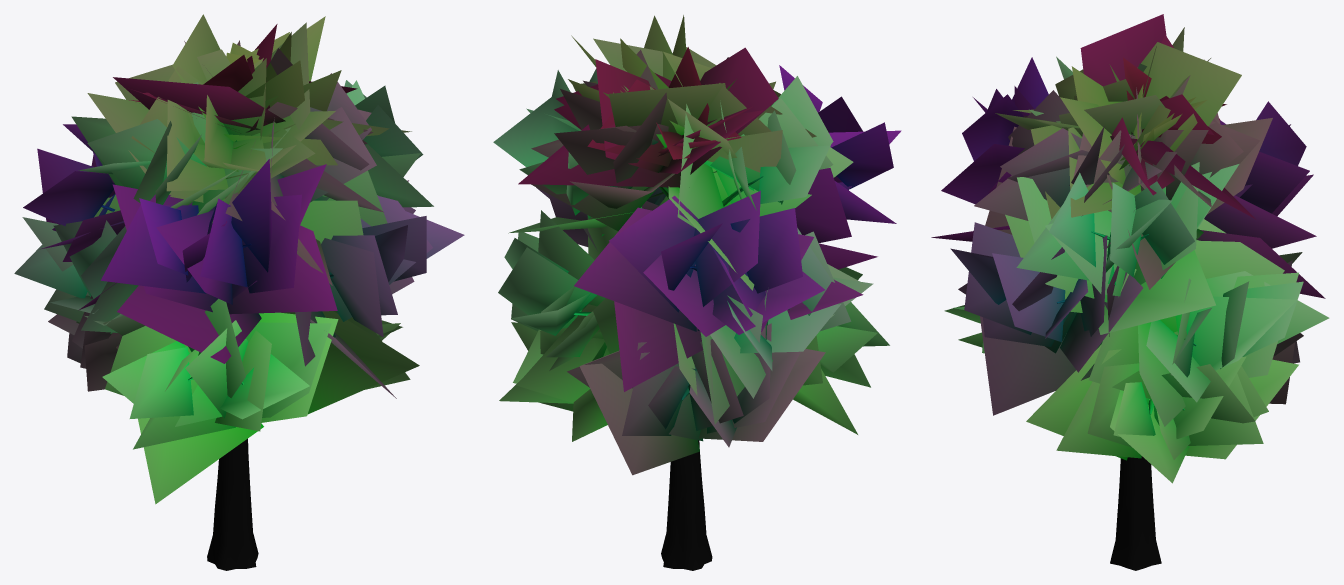
The model's file is SM_Tree03.fbx.
3 views of the same model, side by side, from view 1: azimuth 30°, elevation 25°; view 2: azimuth 150°, elevation 25°; view 3: azimuth 270°, elevation 25° (orthographic).
Visible parts, largest first — view 1: Tree_1, Tree_0; view 2: Tree_1, Tree_0; view 3: Tree_1, Tree_0.
Part boxes in pixels (<box>): Tree_1: <box>14,14,464,504</box>; Tree_0: <box>101,140,333,570</box>; Tree_1: <box>493,15,901,475</box>; Tree_0: <box>574,176,790,570</box>; Tree_1: <box>931,14,1329,483</box>; Tree_0: <box>1057,231,1196,570</box>.
Size of the model in its own units: 197 by 271 by 193.
